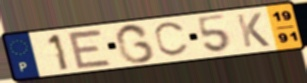1: (46, 32, 72, 72)
5: (194, 12, 234, 54)
C: (153, 20, 191, 58)
E: (65, 28, 115, 70)
G: (114, 22, 158, 65)
K: (235, 11, 273, 49)
